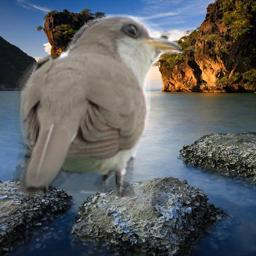Cuckoo: (13, 14, 182, 199)
